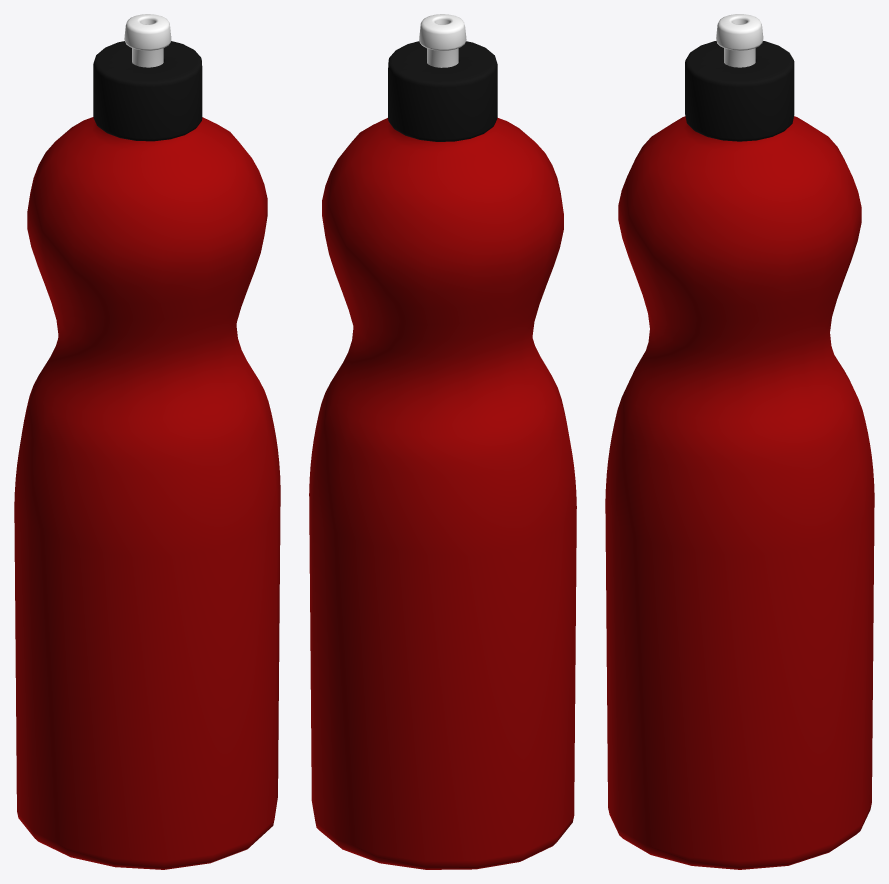
The model's file is Bottle 2.FBX.
The picture shows the model from 3 angles, left to right: view 1: azimuth 30°, elevation 25°; view 2: azimuth 150°, elevation 25°; view 3: azimuth 270°, elevation 25°; orthographic projection.
Visible parts, largest first — view 1: Bottle 2; view 2: Bottle 2; view 3: Bottle 2.
Part boxes in pixels (x1,y1,x2,y2): Bottle 2: (14,14,280,869); Bottle 2: (309,14,576,869); Bottle 2: (605,14,874,869).
Bounding box in the file's own units: 8.19 × 26.84 × 8.19.
